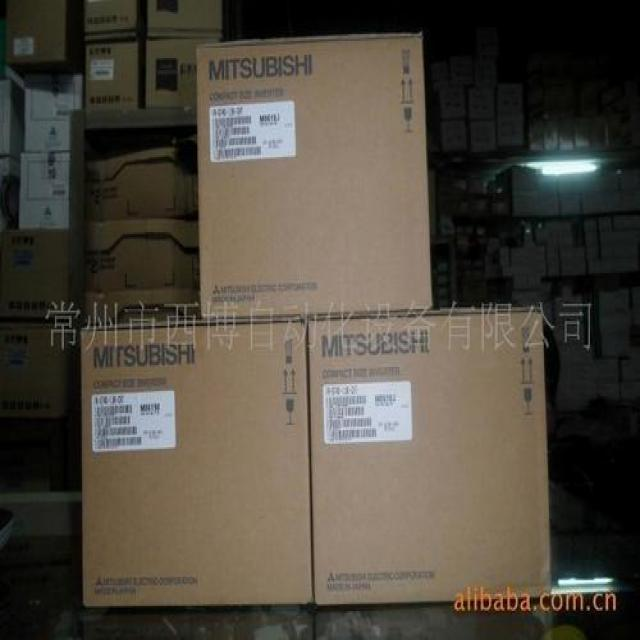box: (308, 308, 556, 608), (192, 28, 435, 318), (75, 319, 311, 611), (78, 0, 219, 113), (79, 220, 194, 294), (82, 146, 200, 216), (0, 232, 84, 322), (0, 328, 73, 420), (17, 152, 82, 232), (21, 70, 81, 152)
